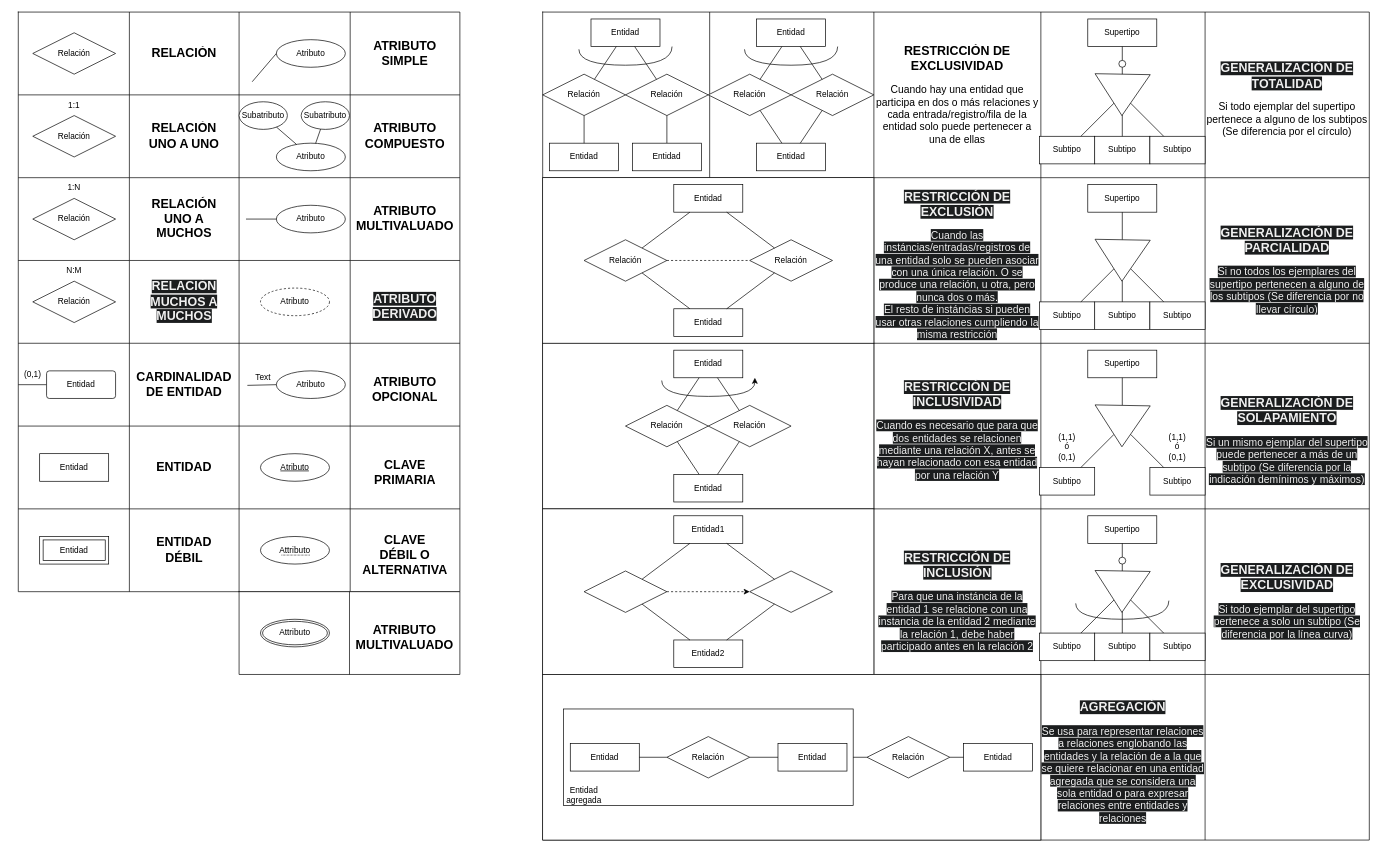
Image size: 1381x852. Some labels were removed from this diagram. The shapes that lost their labels are listed below. From the top down, each one's centre as x and y in pixels, then its label:
At [625,591]: "Relación1".
At [790,591]: "Relación2".
